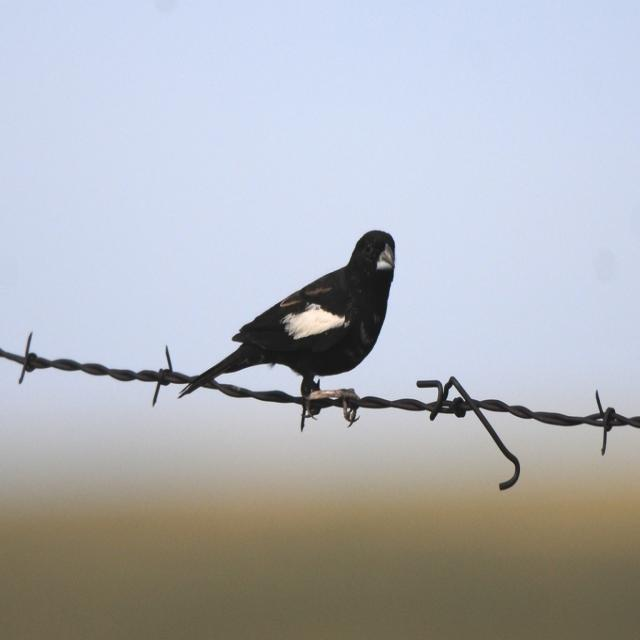bird: (211, 234, 409, 408)
